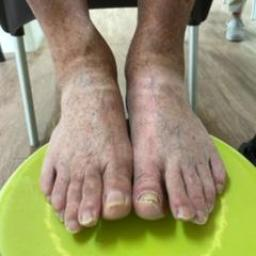Dorsal View -Both Feet-: (17, 20, 243, 249)
